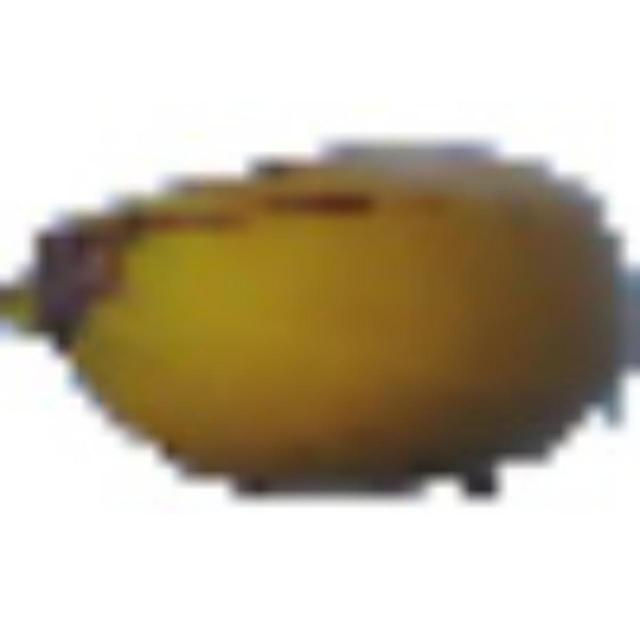banana: (0, 109, 634, 499)
